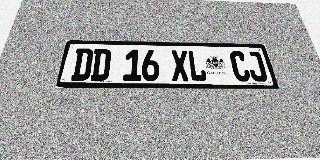1: (123, 49, 142, 81)
6: (142, 50, 159, 81)
C: (229, 51, 252, 82)
D: (70, 48, 94, 81), (90, 49, 111, 81)
J: (245, 51, 268, 82)
L: (187, 50, 207, 81)
X: (171, 50, 190, 81)
